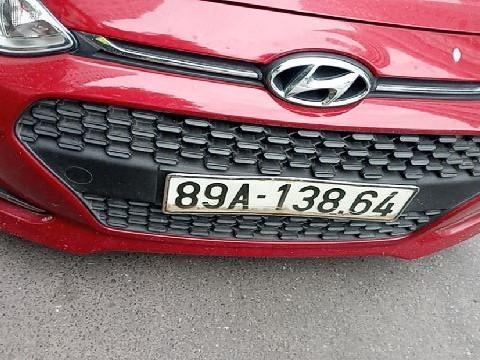lisence: (163, 171, 419, 225)
